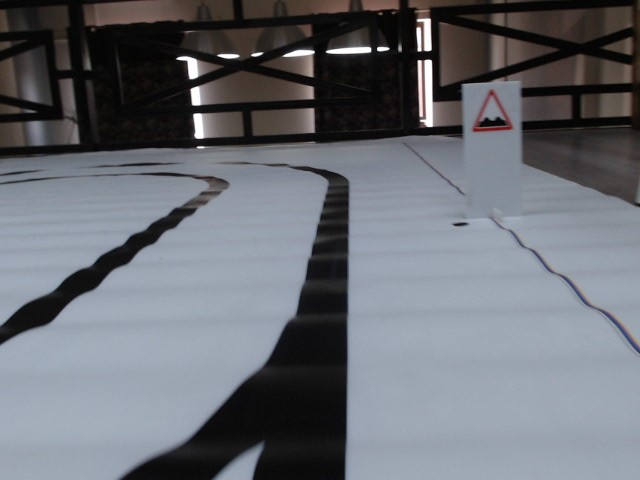Nerov: (470, 89, 515, 134)
